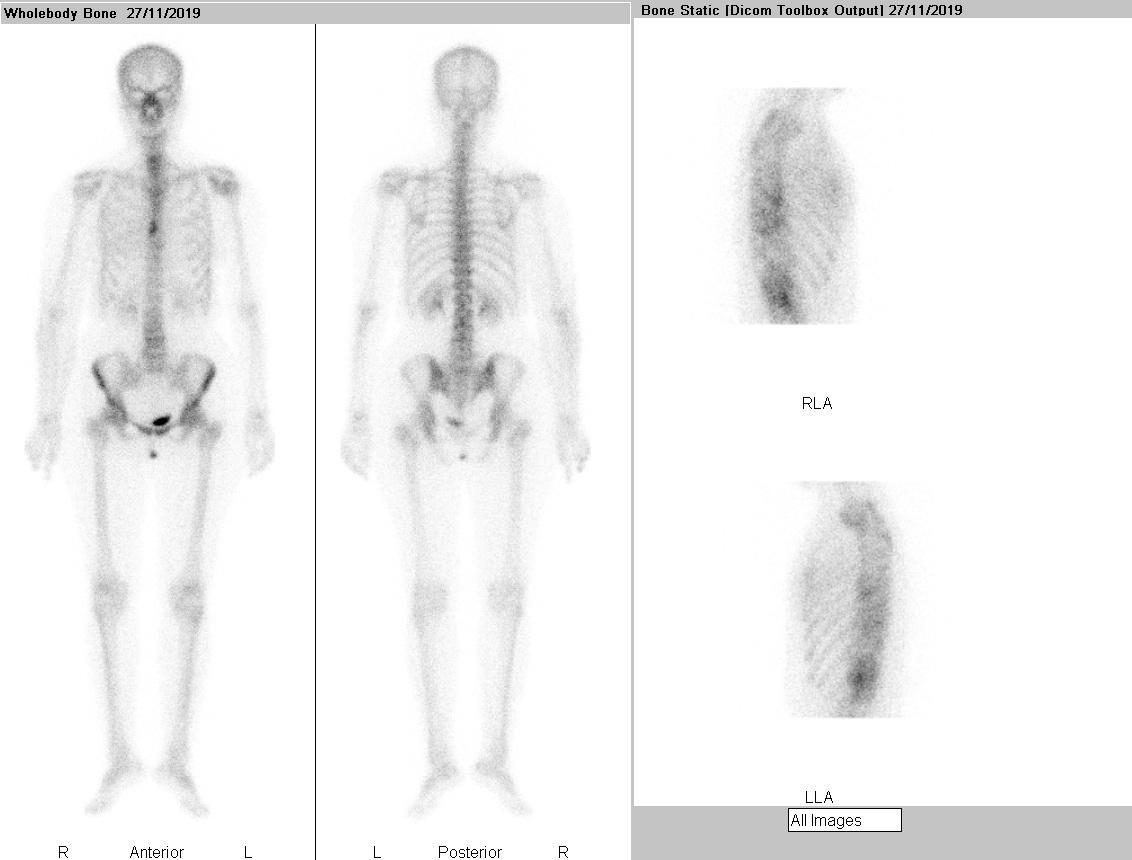person: (2, 26, 631, 859)
